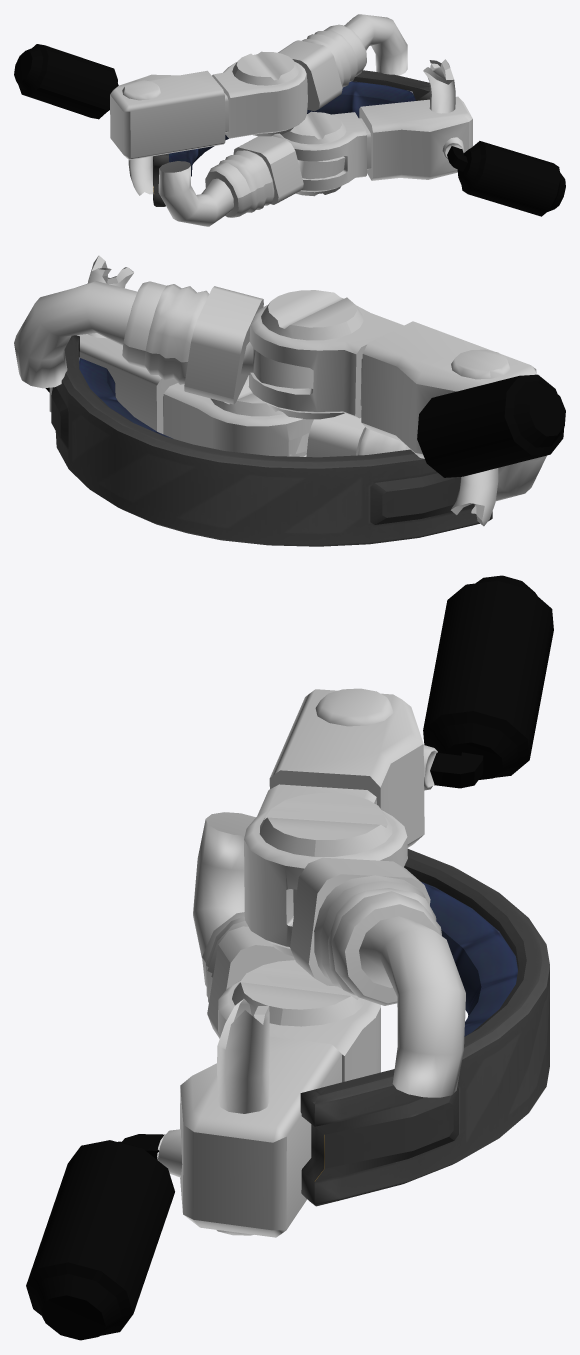
File: exopantsobject.fbx
The picture shows the model from 3 angles, top to bottom: view 1: azimuth 30°, elevation 25°; view 2: azimuth 150°, elevation 25°; view 3: azimuth 270°, elevation 25°; orthographic projection. The views are drawn at different scales.
Visible parts, largest first — view 1: OutfitProps_2FBXASC058obj_robotpart_totebot_leg01.002; view 2: OutfitProps_2FBXASC058obj_robotpart_totebot_leg01.002; view 3: OutfitProps_2FBXASC058obj_robotpart_totebot_leg01.002.
Boxes of the visible parts, left/top/right/bottom form: OutfitProps_2FBXASC058obj_robotpart_totebot_leg01.002: left=14, top=14, right=565, bottom=226; OutfitProps_2FBXASC058obj_robotpart_totebot_leg01.002: left=14, top=255, right=565, bottom=546; OutfitProps_2FBXASC058obj_robotpart_totebot_leg01.002: left=26, top=575, right=553, bottom=1340.
Bounding box in the file's own units: 2.76 × 1.13 × 1.43.
